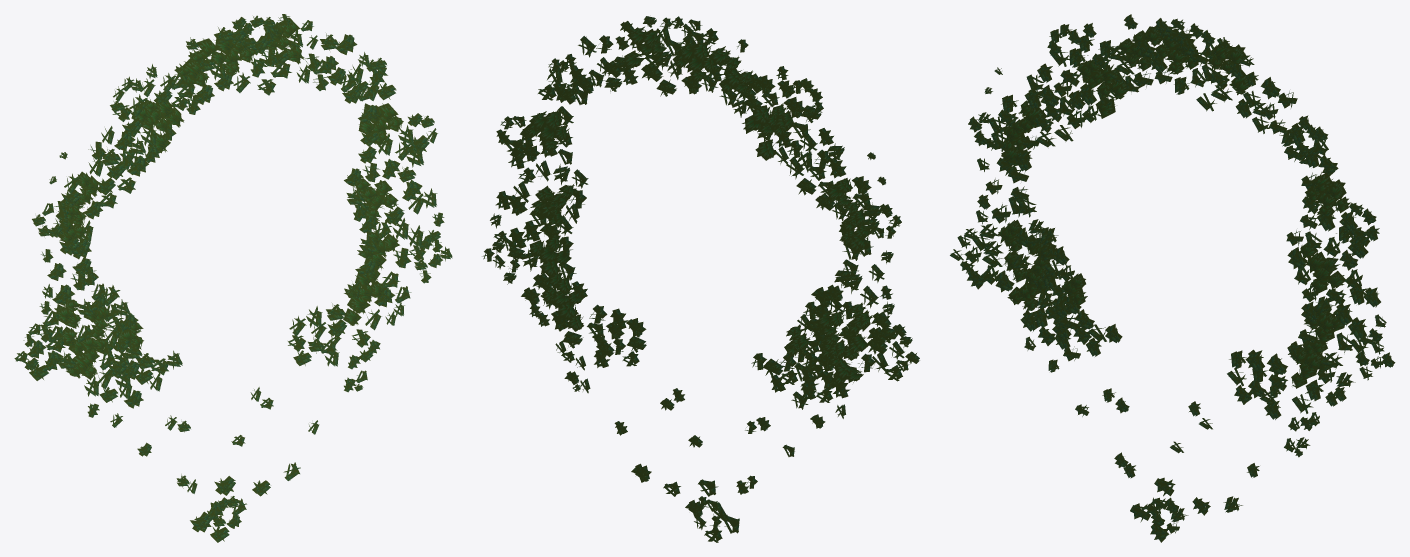
The model's file is Grass000.obj.
3 views of the same model, side by side, from view 1: azimuth 30°, elevation 25°; view 2: azimuth 150°, elevation 25°; view 3: azimuth 330°, elevation 25° (orthographic).
Parts seen in each view (by area): view 1: HighGrass010_1__Grass00; view 2: HighGrass010_1__Grass00; view 3: HighGrass010_1__Grass00.
Boxes of the visible parts, x1=… form: HighGrass010_1__Grass00: x1=14, y1=14, x2=452, y2=542; HighGrass010_1__Grass00: x1=482, y1=16, x2=919, y2=542; HighGrass010_1__Grass00: x1=950, y1=14, x2=1395, y2=542.
Size of the model in its own units: 6338 by 7194 by 248.
Materials: 2 (1 with a texture image).
